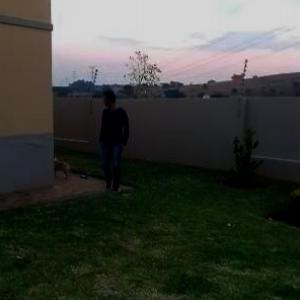follow: (95, 87, 131, 196)
